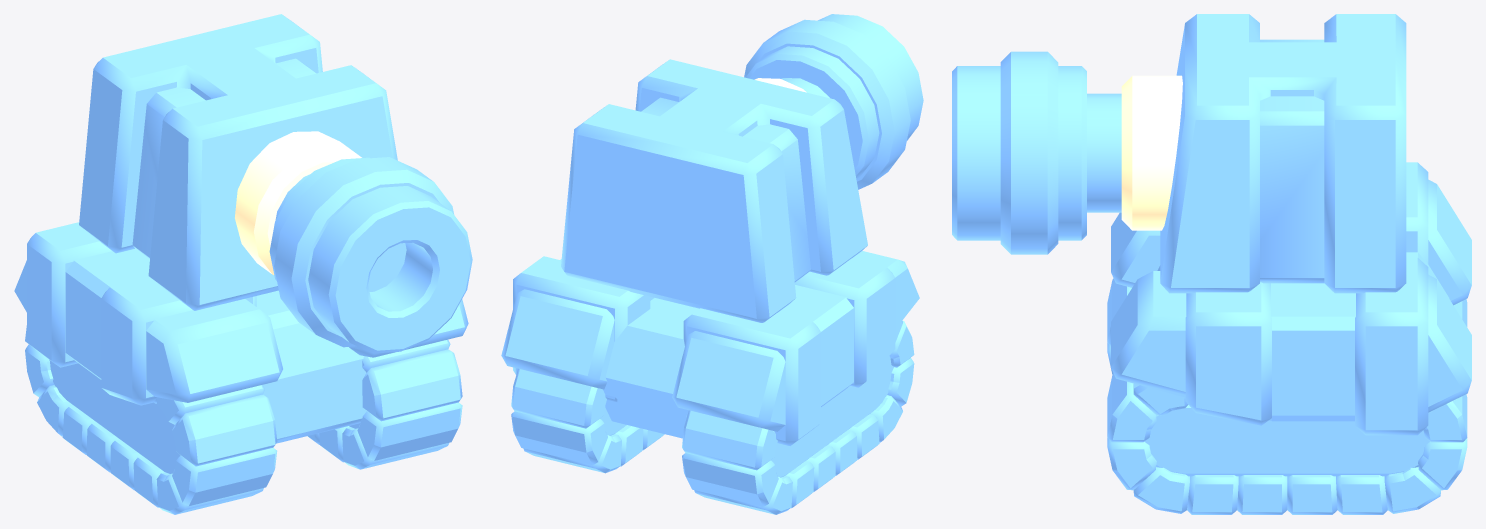
Rendered from Ex-Tanks.fbx.
The picture shows the model from 3 angles, left to right: view 1: azimuth 30°, elevation 25°; view 2: azimuth 150°, elevation 25°; view 3: azimuth 270°, elevation 25°; orthographic projection. The views are drawn at different scales.
Parts seen in each view (by area): view 1: Lv1-Tanks-Rail-Blue, Lv1-Tanks-Body-Blue, Lv1-Tanks-Cannon-Blue; view 2: Lv1-Tanks-Rail-Blue, Lv1-Tanks-Body-Blue, Lv1-Tanks-Cannon-Blue; view 3: Lv1-Tanks-Rail-Blue, Lv1-Tanks-Body-Blue, Lv1-Tanks-Cannon-Blue.
Part boxes in pixels (x1,y1,x2,y2): Lv1-Tanks-Rail-Blue: [14, 222, 468, 514]; Lv1-Tanks-Body-Blue: [79, 14, 397, 310]; Lv1-Tanks-Cannon-Blue: [235, 131, 472, 353]; Lv1-Tanks-Rail-Blue: [501, 251, 919, 514]; Lv1-Tanks-Body-Blue: [561, 59, 867, 322]; Lv1-Tanks-Cannon-Blue: [744, 14, 923, 189]; Lv1-Tanks-Rail-Blue: [1107, 162, 1471, 514]; Lv1-Tanks-Body-Blue: [1160, 14, 1406, 293]; Lv1-Tanks-Cannon-Blue: [952, 51, 1182, 254].
Size of the model in its own units: 1.78 by 2.03 by 2.47.
